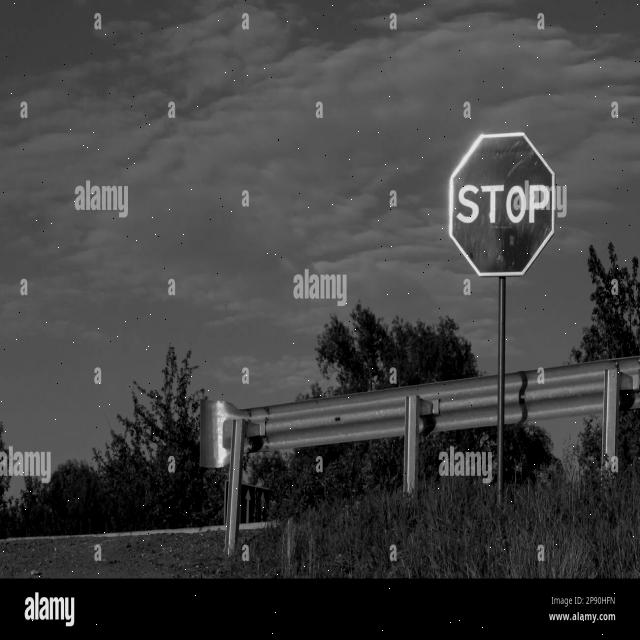Stop-sign: (436, 125, 575, 289)
